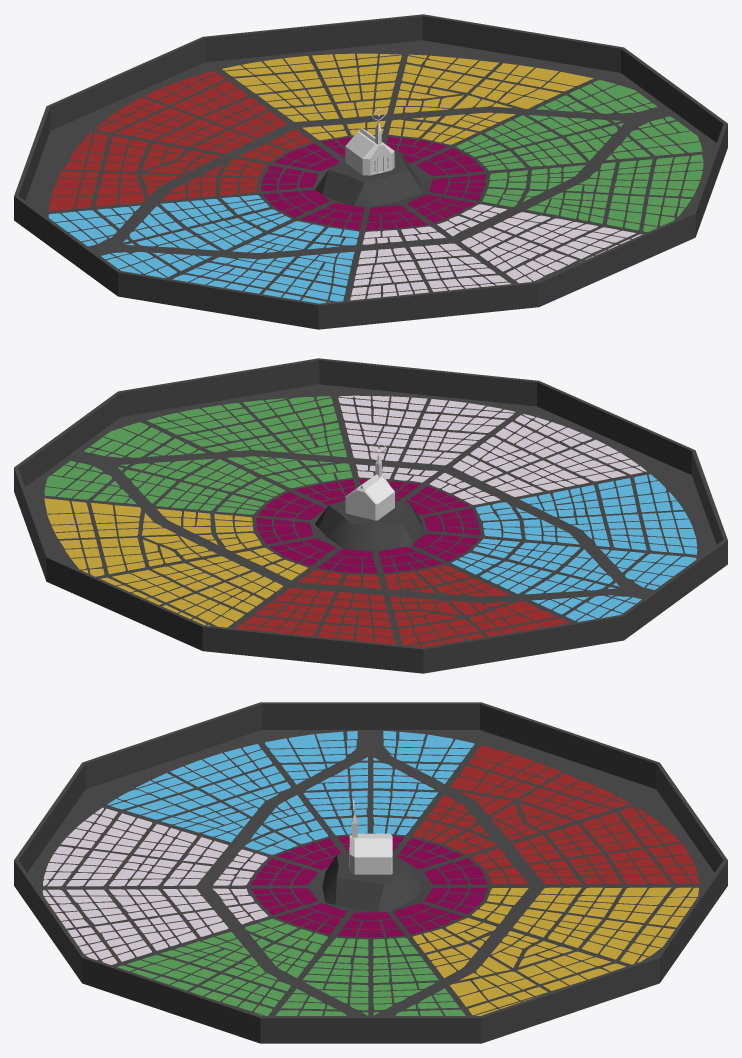
The model's file is mapa nuevo.fbx.
3 views of the same model, one above another, from view 1: azimuth 30°, elevation 25°; view 2: azimuth 150°, elevation 25°; view 3: azimuth 270°, elevation 25° (orthographic). The views are drawn at different scales.
Parts seen in each view (by area): view 1: Cylinder.004, Curve.003, Plane.122; view 2: Cylinder.004, Curve.003, Plane.122; view 3: Cylinder.004, Curve.003, Plane.122.
Part boxes in pixels (<box>): Cylinder.004: <box>14,14,727,329</box>; Curve.003: <box>48,53,703,303</box>; Plane.122: <box>345,109,394,175</box>; Cylinder.004: <box>14,358,727,673</box>; Curve.003: <box>44,395,697,647</box>; Plane.122: <box>345,441,394,520</box>; Cylinder.004: <box>14,702,727,1043</box>; Curve.003: <box>42,731,698,1015</box>; Plane.122: <box>349,799,392,874</box>.
Bounding box in the file's own units: 516 × 66.51 × 493.
